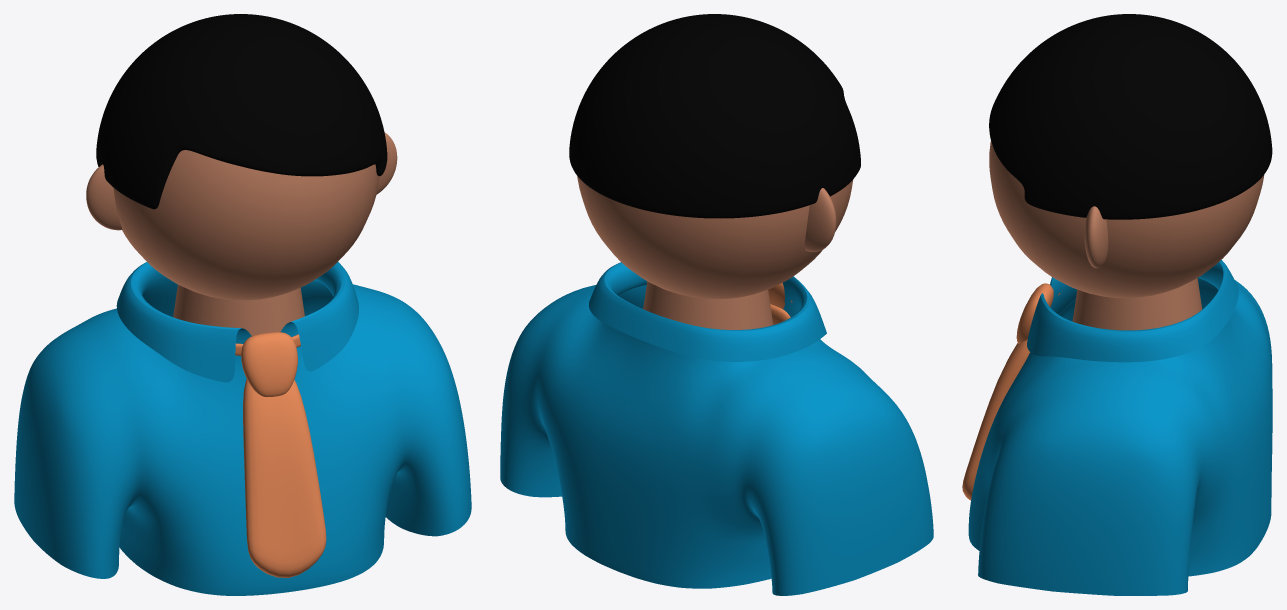
File: user-profile-3d-animated-icon-606332322604.glb
The picture shows the model from 3 angles, left to right: view 1: azimuth 30°, elevation 25°; view 2: azimuth 150°, elevation 25°; view 3: azimuth 270°, elevation 25°; orthographic projection.
Visible parts, largest first — view 1: Cube.016, Sphere.004, Sphere.002, Cube.018, Cylinder.020, Cube.017, Sphere.005; view 2: Cube.016, Sphere.004, Sphere.002, Cylinder.020, Sphere.005; view 3: Cube.016, Sphere.004, Sphere.002, Cylinder.020, Cube.018, Sphere.005, Cube.017.
Boxes of the visible parts, x1,y1,x2,y2 form: Cube.016: (14,262,471,595); Sphere.004: (96,14,387,209); Sphere.002: (113,150,379,300); Cube.018: (243,379,326,577); Cylinder.020: (173,284,304,335); Cube.017: (241,332,297,396); Sphere.005: (86,132,397,230); Cube.016: (500,262,933,595); Sphere.004: (569,14,860,218); Sphere.002: (577,176,853,299); Cylinder.020: (643,281,773,329); Sphere.005: (804,188,836,251); Cube.016: (968,260,1272,595); Sphere.004: (989,14,1272,219); Sphere.002: (989,141,1264,298); Cylinder.020: (1072,278,1202,330); Cube.018: (962,339,1030,500); Sphere.005: (1084,206,1108,268); Cube.017: (1016,283,1053,343).
Size of the model in its own units: 1.39 by 1.7 by 0.945.
